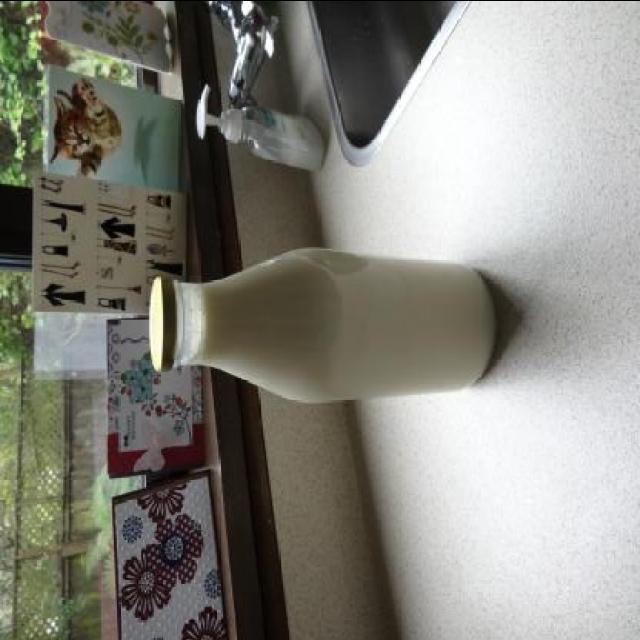Milk: (188, 245, 497, 402)
